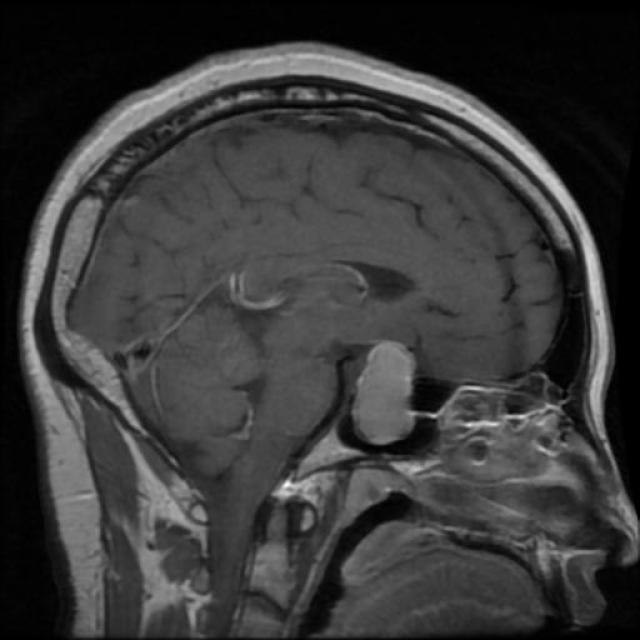brain_tumor: (351, 342, 418, 450)
